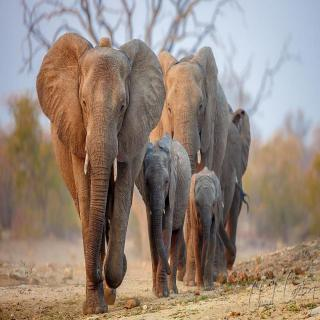Elephant: (36, 29, 170, 320), (148, 43, 235, 281), (133, 130, 193, 300), (188, 166, 227, 294)
